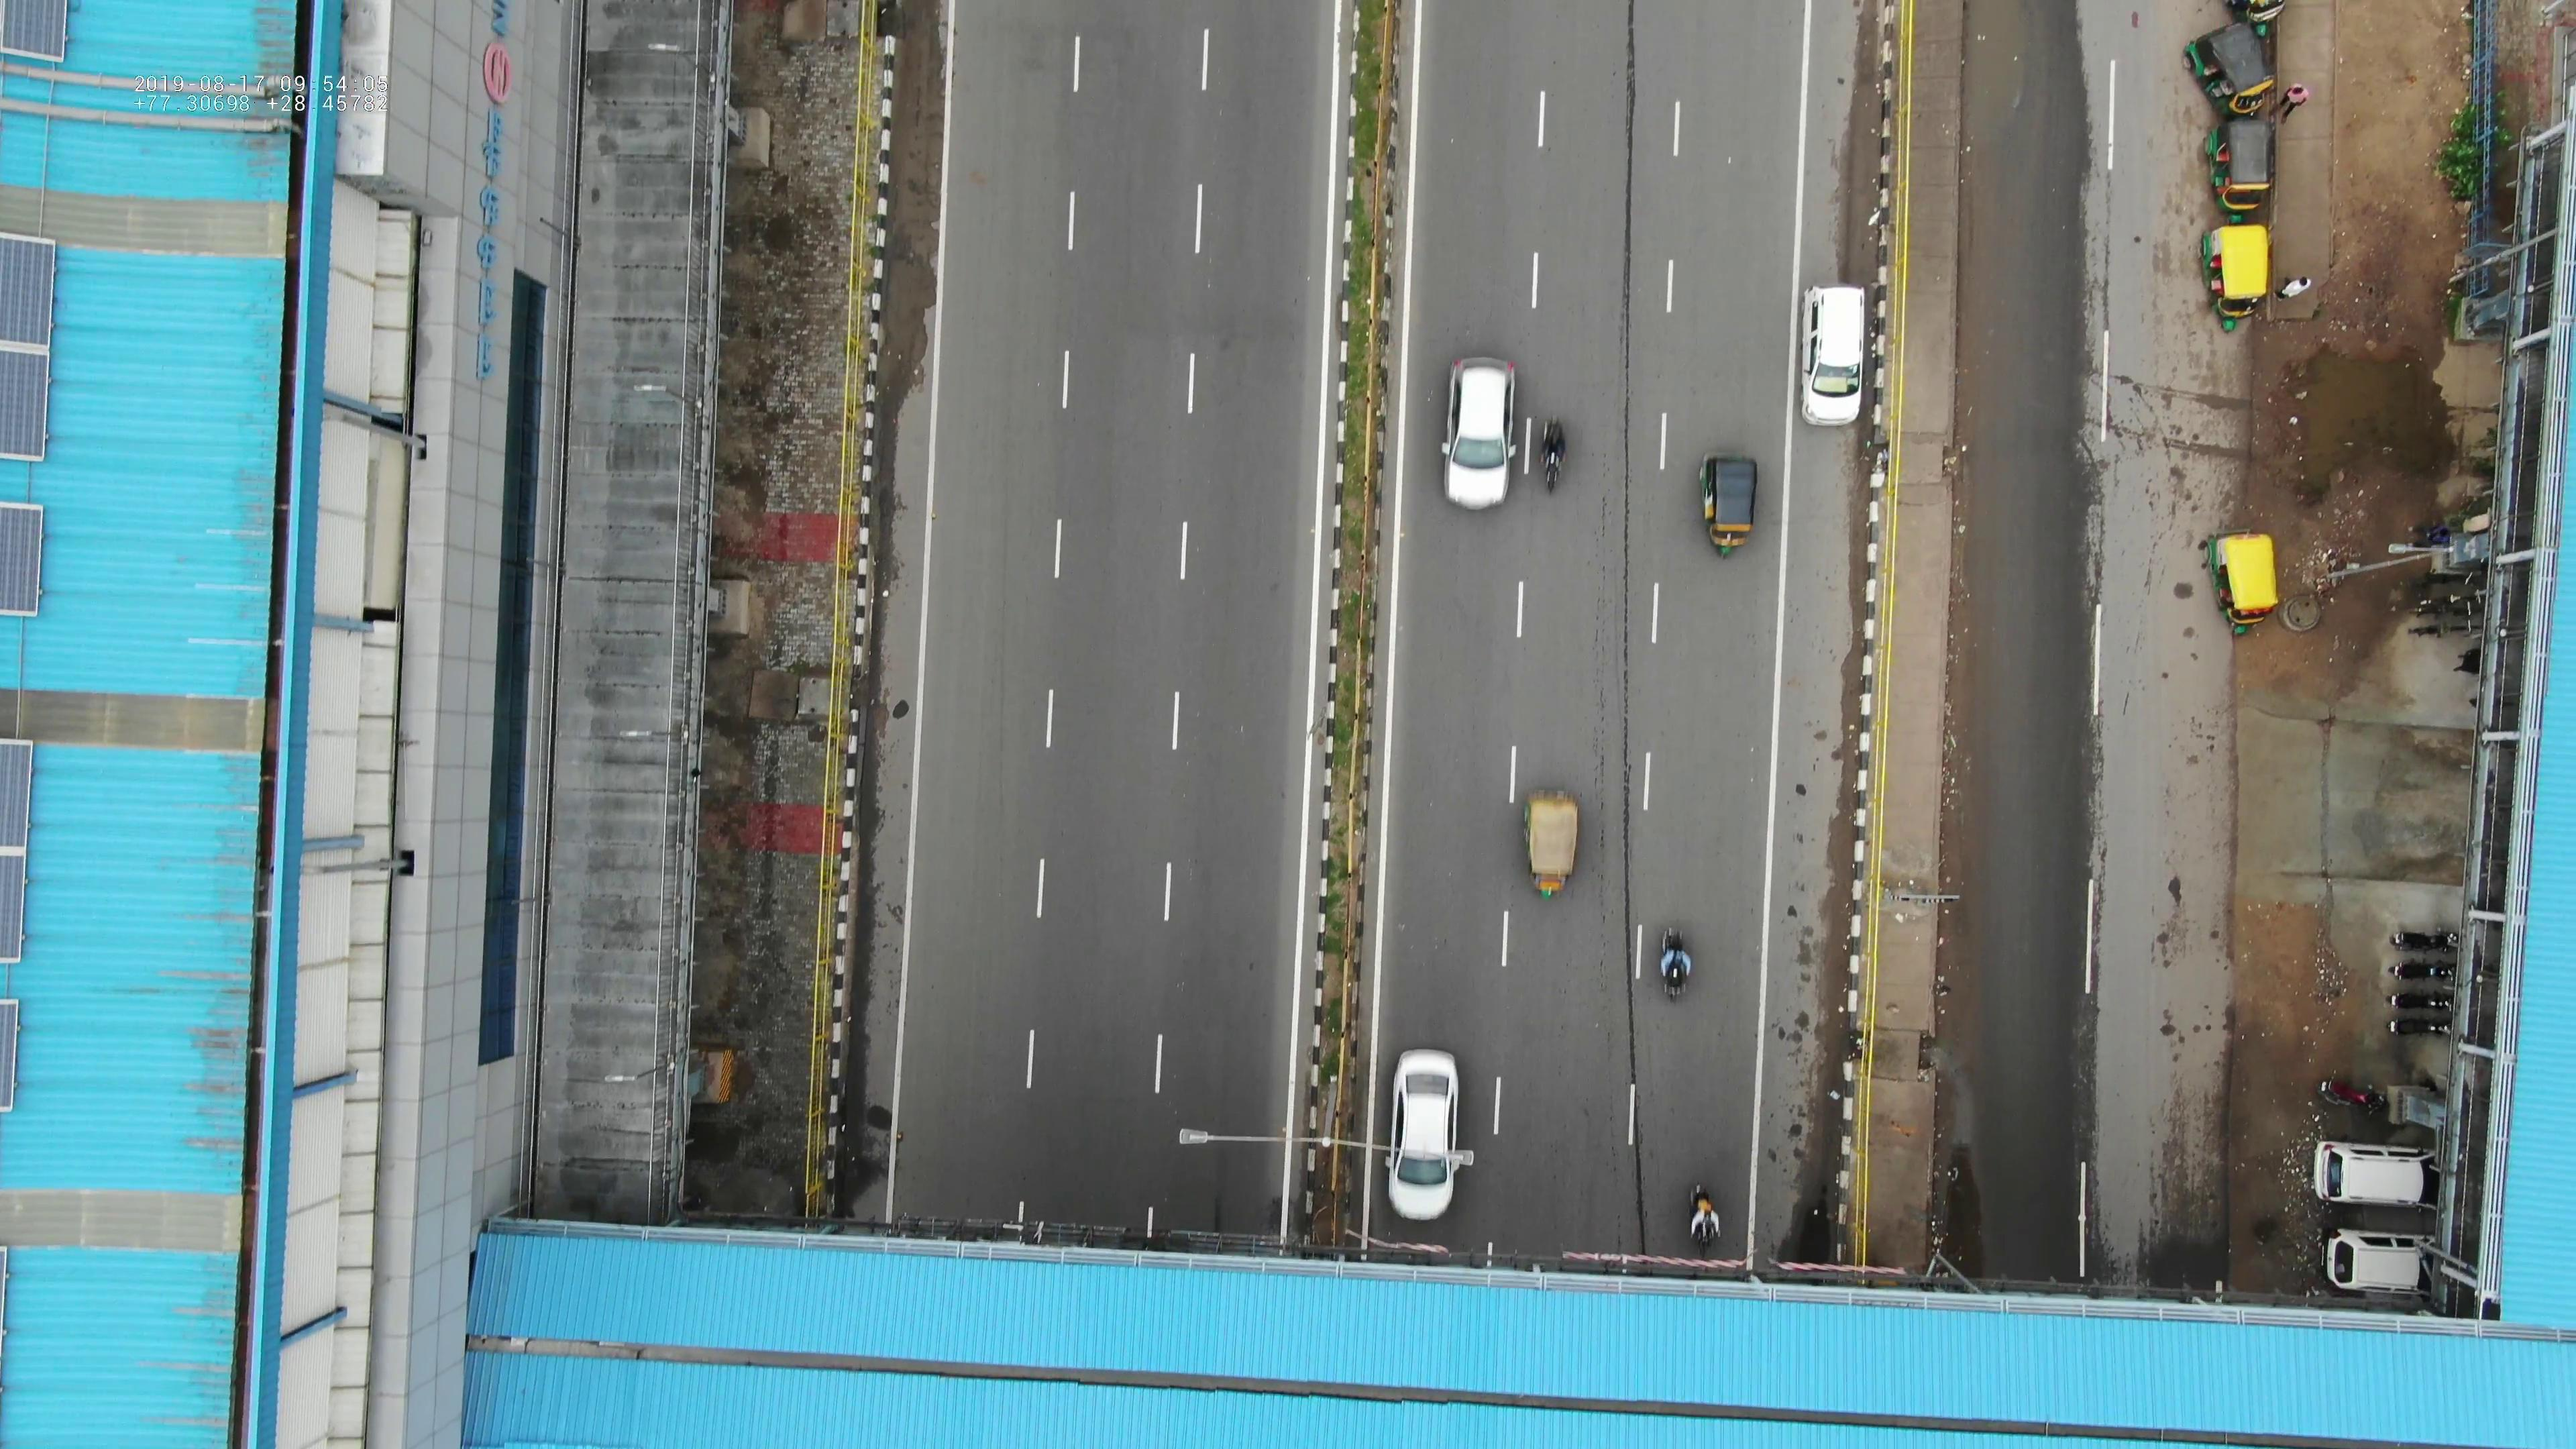Muddy_road: (872, 173, 947, 395), (874, 0, 961, 170)
Waterlogging: (2270, 340, 2445, 508)
